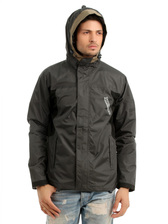clothoes: (22, 56, 145, 196)
